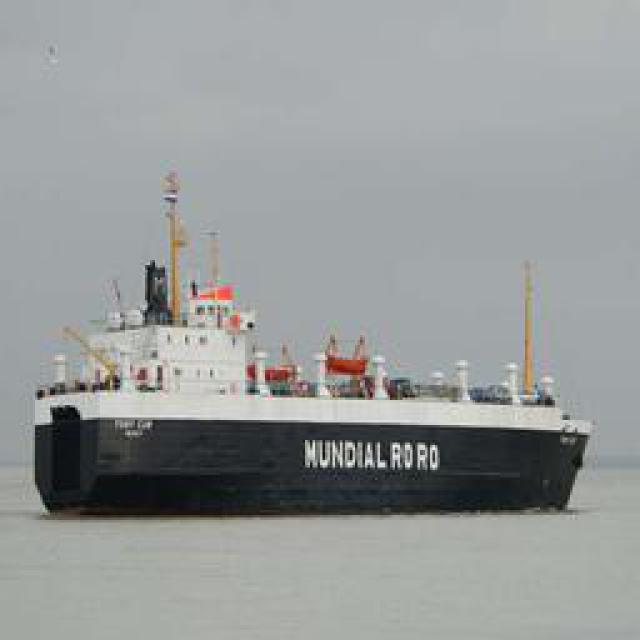Ship: (27, 207, 595, 510)
